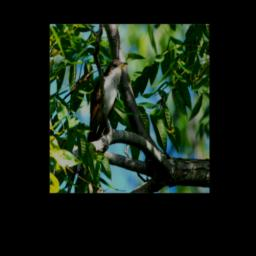Cuckoo: (87, 59, 128, 142)
